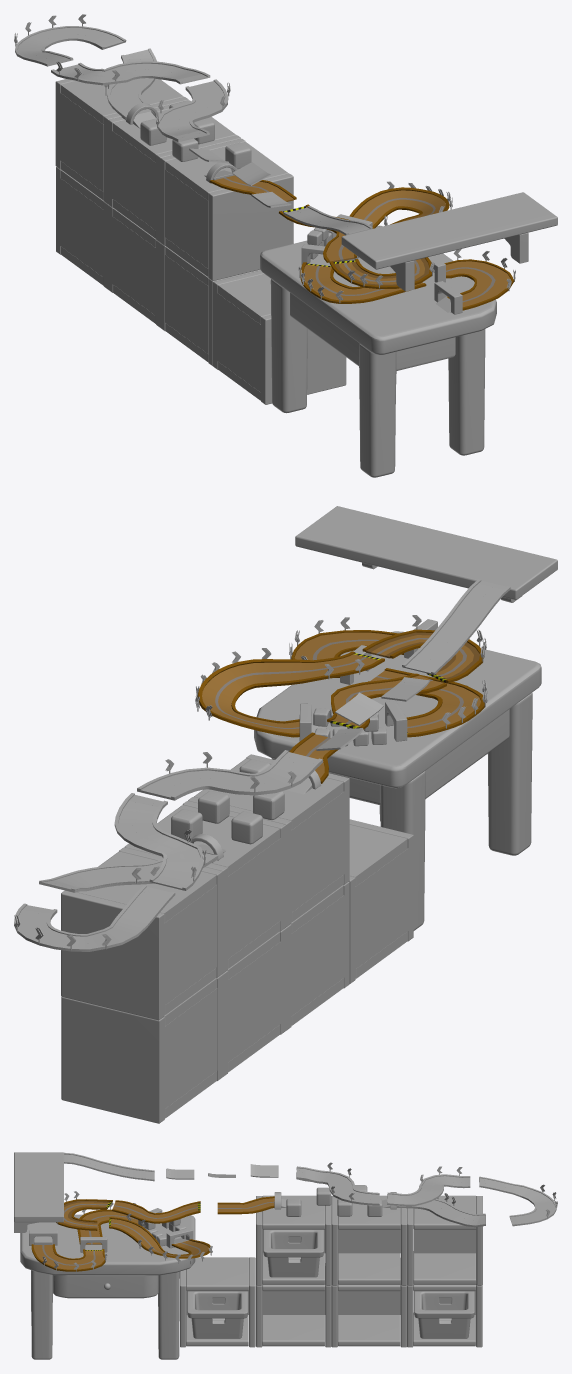
The model's file is TestRoadV26.fbx.
The picture shows the model from 3 angles, top to bottom: view 1: azimuth 30°, elevation 25°; view 2: azimuth 150°, elevation 25°; view 3: azimuth 270°, elevation 25°; orthographic projection. The views are drawn at different scales.
Parts seen in each view (by area): view 1: pasted__pasted__pasted__pasted__pasted__pasted__pasted__past (×6), pCube8, pasted__pasted__pCube6, pasted__pasted__pasted__pasted__pCube7, pasted__pCube10, pasted__pasted__pasted__pasted__pasted__pasted__pasted__pCub (×2), pasted__pCube43, pCube9, pasted__pasted__pasted__pasted__pasted__pasted__pCube10, pasted__pasted__pCube7, pasted__pasted__pasted__pasted__pasted__pasted__pCube8, pasted__sweep8 (+21 smaller); view 2: pasted__pasted__pasted__pasted__pasted__pasted__pasted__past (×6), pasted__pasted__pasted__pasted__pasted__pasted__pasted__pCub (×3), pCube8, pasted__pasted__pasted__pasted__pasted__pasted__pCube7 (×3), pasted__pasted__pCube6, pasted__pCube10, pasted__pasted__pasted__pasted__pasted__pasted__pCube10, pasted__pasted__pasted__sweep1, pCube9, pasted__sweep7, pasted__sweep8, pasted__sweep6 (+21 smaller); view 3: pasted__pasted__pasted__pasted__pasted__pasted__pasted__past (×7), pasted__pasted__pasted__pasted__pasted__pasted__pasted__pCub (×6), pCube8, pasted__pasted__pasted__pasted__pasted__pasted__pCube8 (×3), pasted__pasted__pCube6, pasted__pasted__New_Container1, pasted__pasted__pasted__New_Container, pasted__New_Container1, pCube11, pasted__pasted__pasted__pasted__pasted__pCube7 (×4), pasted__pasted__pasted__pasted__pCube8, pasted__pCube43 (+29 smaller).
Part boxes in pixels (x1=…): pasted__pasted__pasted__pasted__pasted__pasted__pasted__past (×6): x1=60, y1=79, x2=208, y2=315; pCube8: x1=260, y1=225, x2=496, y2=354; pasted__pasted__pCube6: x1=341, y1=192, x2=557, y2=269; pasted__pasted__pasted__pasted__pCube7: x1=208, y1=173, x2=293, y2=280; pasted__pCube10: x1=359, y1=343, x2=396, y2=477; pasted__pasted__pasted__pasted__pasted__pasted__pasted__pCub (×2): x1=113, y1=109, x2=236, y2=353; pasted__pCube43: x1=448, y1=329, x2=485, y2=455; pCube9: x1=270, y1=279, x2=307, y2=413; pasted__pasted__pasted__pasted__pasted__pasted__pCube10: x1=217, y1=293, x2=260, y2=392; pasted__pasted__pCube7: x1=261, y1=314, x2=346, y2=404; pasted__pasted__pasted__pasted__pasted__pasted__pCube8: x1=165, y1=142, x2=288, y2=200; pasted__sweep8: x1=158, y1=81, x2=228, y2=142; pasted__pasted__pasted__pasted__pasted__pasted__pasted__past (×6): x1=77, y1=792, x2=344, y2=1108; pasted__pasted__pasted__pasted__pasted__pasted__pasted__pCub (×3): x1=61, y1=805, x2=344, y2=1020; pCube8: x1=254, y1=631, x2=541, y2=788; pasted__pasted__pasted__pasted__pasted__pasted__pCube7 (×3): x1=61, y1=843, x2=227, y2=1123; pasted__pasted__pCube6: x1=295, y1=506, x2=557, y2=599; pasted__pCube10: x1=487, y1=693, x2=532, y2=855; pasted__pasted__pasted__pasted__pasted__pasted__pCube10: x1=355, y1=848, x2=408, y2=968; pasted__pasted__pasted__sweep1: x1=202, y1=653, x2=380, y2=733; pCube9: x1=380, y1=771, x2=425, y2=930; pasted__sweep7: x1=114, y1=795, x2=203, y2=890; pasted__sweep8: x1=137, y1=752, x2=322, y2=800; pasted__sweep6: x1=14, y1=887, x2=175, y2=951; pasted__pasted__pasted__pasted__pasted__pasted__pasted__past (×7): x1=338, y1=1195, x2=476, y2=1346; pasted__pasted__pasted__pasted__pasted__pasted__pasted__pCub (×6): x1=262, y1=1195, x2=482, y2=1346; pCube8: x1=20, y1=1214, x2=195, y2=1275; pasted__pasted__pasted__pasted__pasted__pasted__pCube8 (×3): x1=262, y1=1195, x2=400, y2=1346; pasted__pasted__pCube6: x1=14, y1=1152, x2=63, y2=1222; pasted__pasted__New_Container1: x1=263, y1=1229, x2=323, y2=1277; pasted__pasted__pasted__New_Container: x1=414, y1=1291, x2=474, y2=1338; pasted__New_Container1: x1=187, y1=1291, x2=247, y2=1338; pCube11: x1=52, y1=1275, x2=158, y2=1298; pasted__pasted__pasted__pasted__pasted__pCube7 (×4): x1=325, y1=1196, x2=413, y2=1347; pasted__pasted__pasted__pasted__pCube8: x1=186, y1=1257, x2=248, y2=1291; pasted__pCube43: x1=31, y1=1270, x2=52, y2=1359.
Size of the model in its own units: 0.371 by 0.4255 by 1.26.
